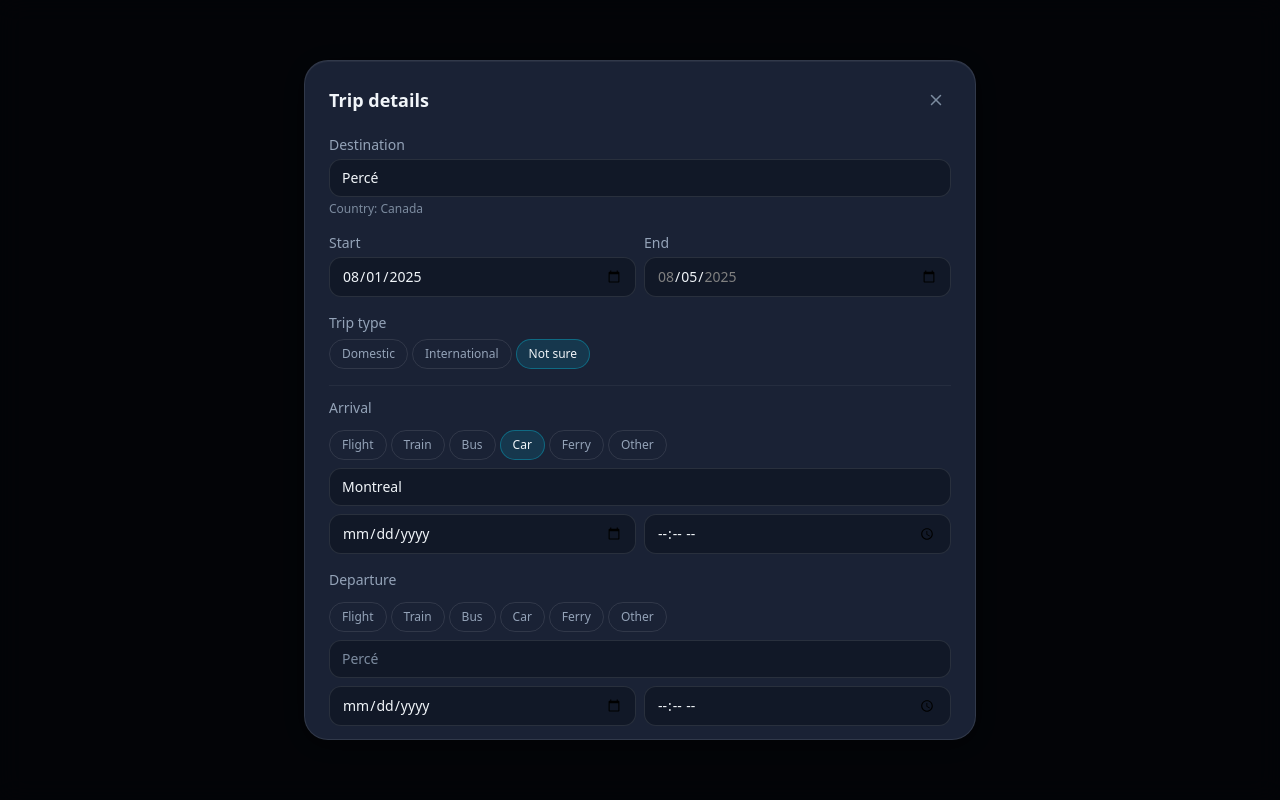
the country cannot go stale › refuses an end date before the start
Type "2025-07-01" into the date field with test id "td-end" at (798, 277), box [644,257,951,297]
(page scrolled)
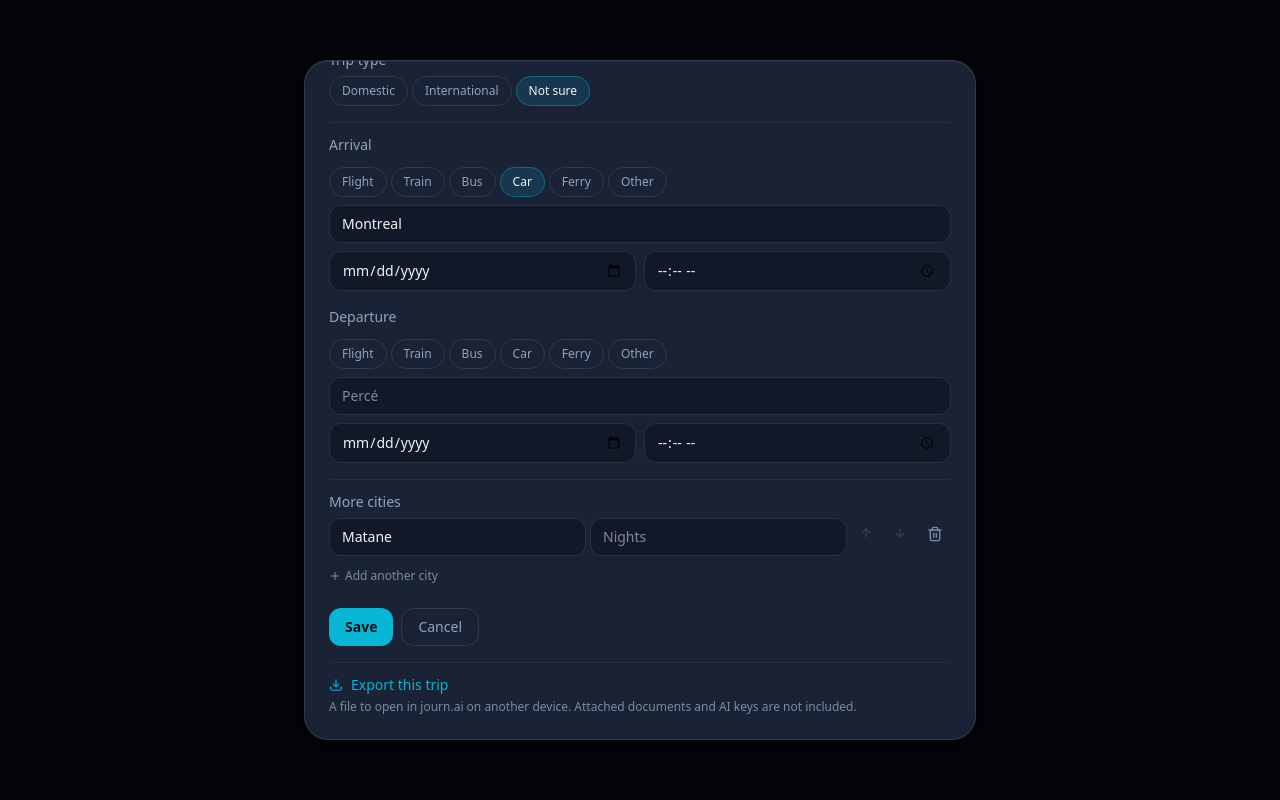
Click the button with test id "td-save" at (361, 627), box [329,608,393,646]
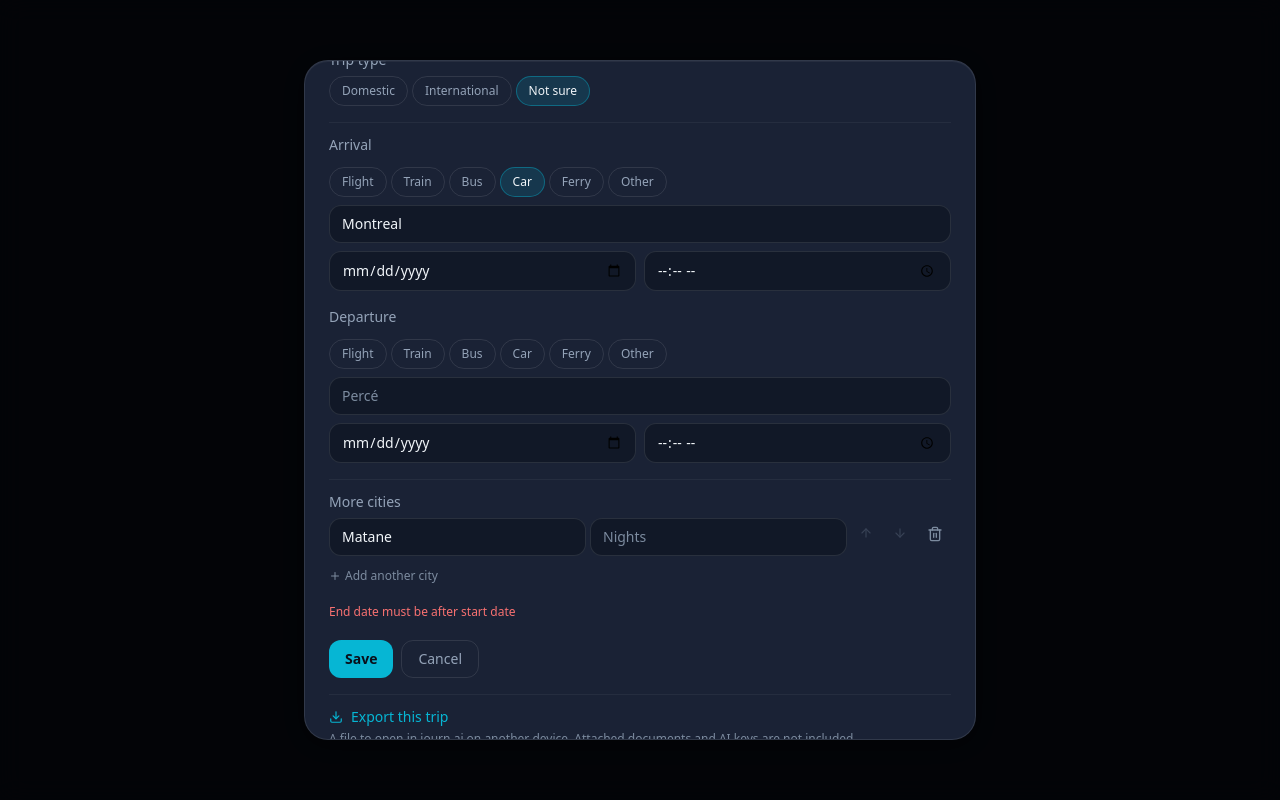
Expected: the message with test id "td-error" shows "after start date", [329,603,516,620]
